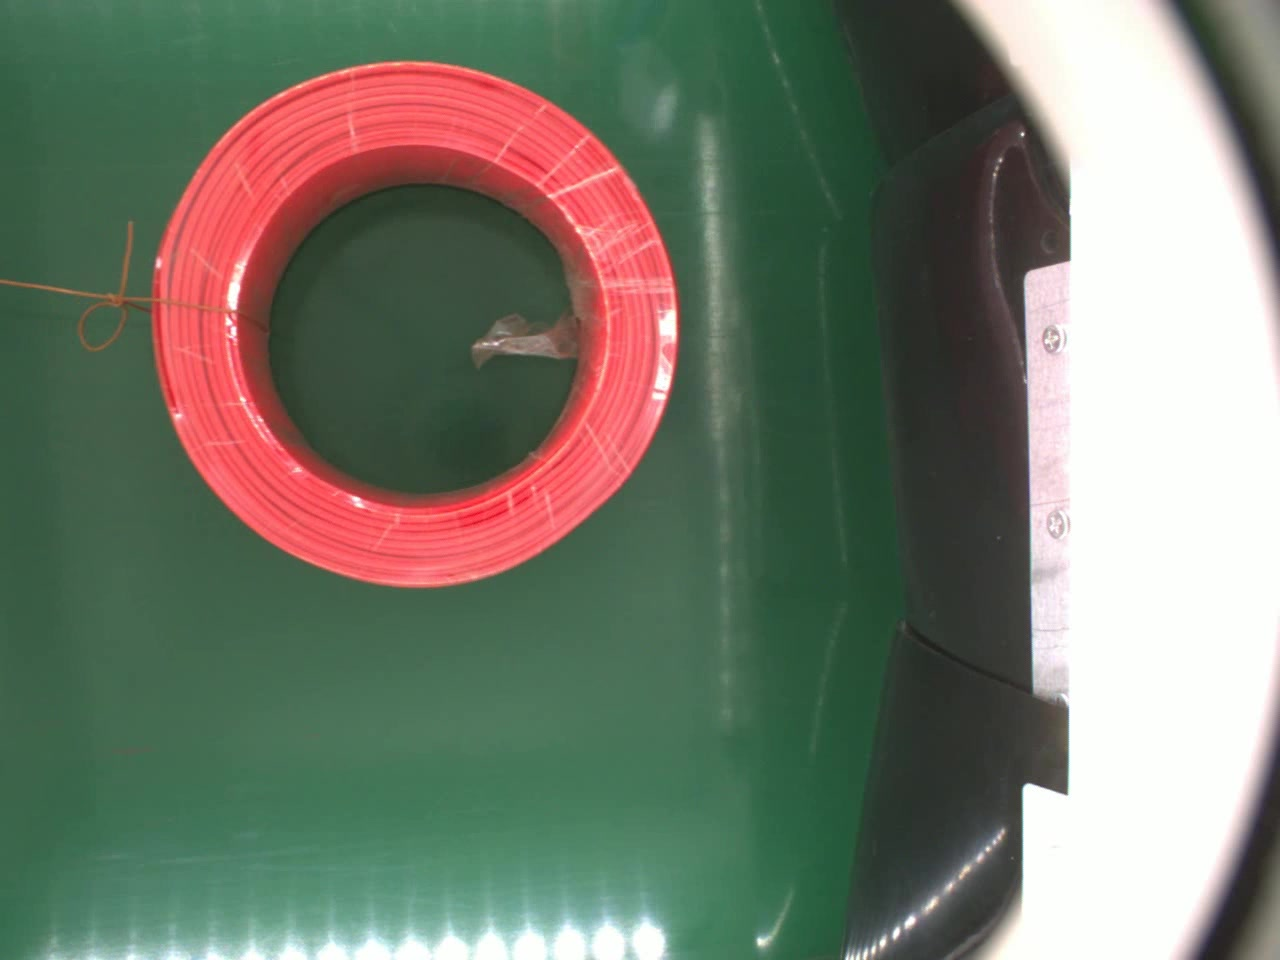red: (147, 58, 681, 588)
